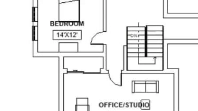door: (86, 28, 116, 51), (104, 68, 128, 92)
